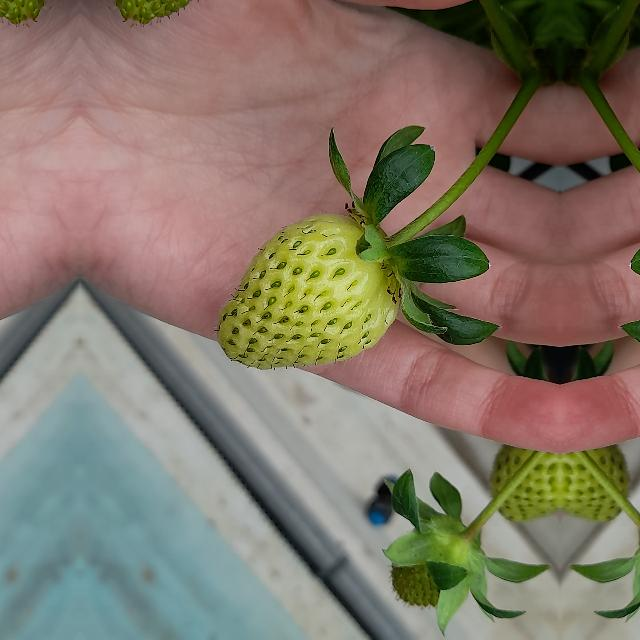Health_25: (216, 213, 400, 369)
